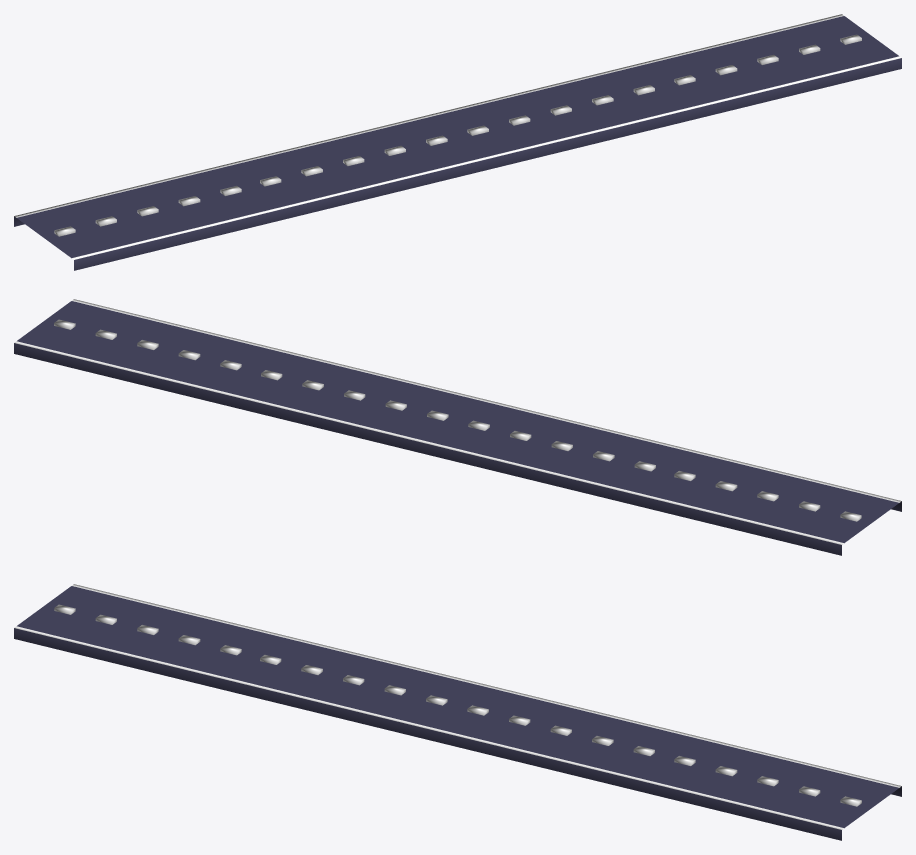
The model's file is longroad.glb.
3 views of the same model, one above another, from view 1: azimuth 30°, elevation 25°; view 2: azimuth 150°, elevation 25°; view 3: azimuth 330°, elevation 25° (orthographic).
Parts seen in each view (by area): view 1: Box002, Box002_RoadBase_0.001, Box002_RoadBase_0.005, Box002_RoadBase_0.002, Box002_RoadRim_0.001, Box002_RoadRim_0.005, Box002_RoadRim_0.002, Box007_RoadRim_0.001, Box007, Box007_RoadRim_0.005, Box007_RoadRim_0.002; view 2: Box002, Box002_RoadBase_0.002, Box002_RoadBase_0.005, Box002_RoadBase_0.001, Box002_RoadRim_0.002, Box002_RoadRim_0.001, Box002_RoadRim_0.005, Box007_RoadRim_0.001, Box007, Box007_RoadRim_0.005, Box007_RoadRim_0.002; view 3: Box002, Box002_RoadBase_0.001, Box002_RoadBase_0.005, Box002_RoadBase_0.002, Box002_RoadRim_0.002, Box002_RoadRim_0.005, Box002_RoadRim_0.001, Box007, Box007_RoadRim_0.001, Box007_RoadRim_0.002, Box007_RoadRim_0.005.
Part boxes in pixels (<box>): Box002: <box>14,166,281,270</box>; Box002_RoadBase_0.001: <box>637,16,901,119</box>; Box002_RoadBase_0.005: <box>430,66,695,169</box>; Box002_RoadBase_0.002: <box>224,117,487,219</box>; Box002_RoadRim_0.001: <box>635,14,901,108</box>; Box002_RoadRim_0.005: <box>427,64,693,158</box>; Box002_RoadRim_0.002: <box>220,115,486,209</box>; Box007_RoadRim_0.001: <box>674,34,861,85</box>; Box007: <box>54,186,241,236</box>; Box007_RoadRim_0.005: <box>467,85,654,135</box>; Box007_RoadRim_0.002: <box>260,135,447,186</box>; Box002: <box>634,451,901,555</box>; Box002_RoadBase_0.002: <box>428,402,693,504</box>; Box002_RoadBase_0.005: <box>222,351,485,454</box>; Box002_RoadBase_0.001: <box>14,301,278,404</box>; Box002_RoadRim_0.002: <box>429,400,695,494</box>; Box002_RoadRim_0.001: <box>14,299,281,393</box>; Box002_RoadRim_0.005: <box>222,350,488,443</box>; Box007_RoadRim_0.001: <box>54,319,241,370</box>; Box007: <box>674,471,861,521</box>; Box007_RoadRim_0.005: <box>261,370,448,420</box>; Box007_RoadRim_0.002: <box>468,420,655,471</box>; Box002: <box>14,584,281,689</box>; Box002_RoadBase_0.001: <box>634,737,901,840</box>; Box002_RoadBase_0.005: <box>427,687,692,789</box>; Box002_RoadBase_0.002: <box>222,636,484,739</box>; Box002_RoadRim_0.002: <box>220,634,486,728</box>; Box002_RoadRim_0.005: <box>427,685,694,779</box>; Box002_RoadRim_0.001: <box>635,735,901,829</box>; Box007: <box>54,604,241,655</box>; Box007_RoadRim_0.001: <box>674,756,861,806</box>; Box007_RoadRim_0.002: <box>260,655,447,705</box>; Box007_RoadRim_0.005: <box>467,705,654,755</box>.
Bounding box in the file's own units: 202 × 3.22 × 25.4.
